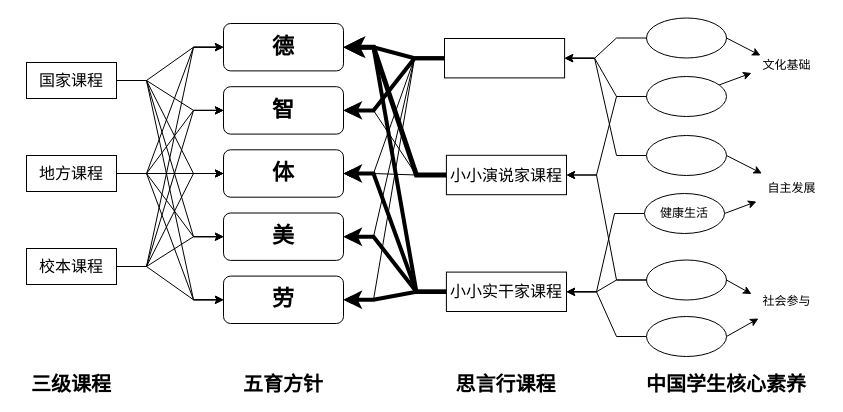
The diagram is 843 pixels wide and 412 high, and some of its shapes have lost their labels. Here are the shapes that lost their labels. From the top down, the box of each, then its label:
(646, 17, 726, 58): 科学精神
(444, 38, 565, 78): 小小哲学家课程
(646, 76, 726, 116): 人文底蕴
(646, 134, 726, 176): 学会学习
(646, 259, 726, 300): 责任担当
(646, 316, 726, 356): 实践创新
